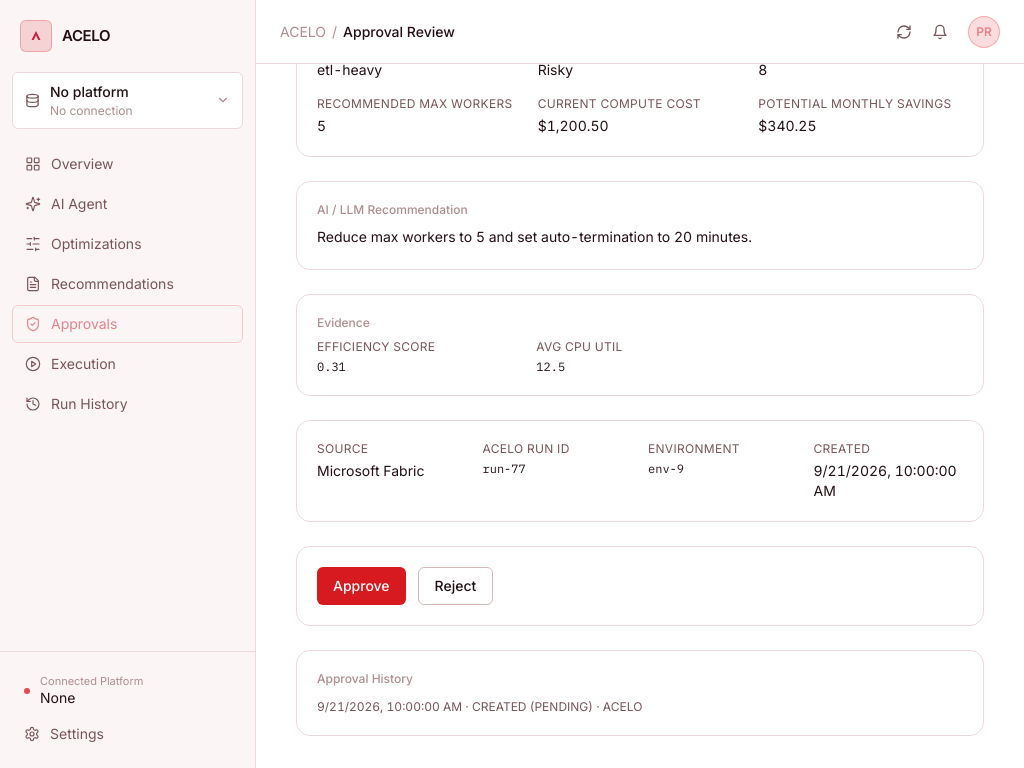
Scenario: Review, approve, reject › reject cannot be confirmed without a reason
(page scrolled)
Click the button "Reject".
click(455, 586)  # box [418, 566, 493, 604]
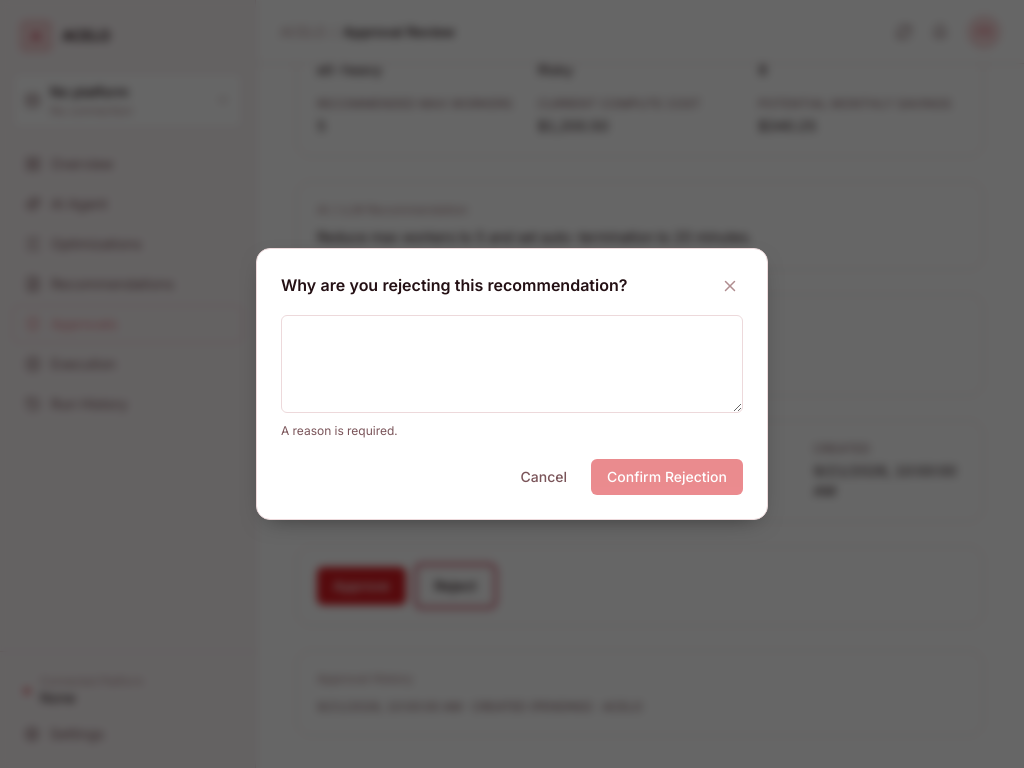
Expected: the button "Confirm Rejection" is disabled, [591, 459, 743, 495]
Type "Needed for month-end close" into the text box named "Rejection reason".
click(512, 364); type("Needed for month-end close")  # box [281, 315, 743, 413]
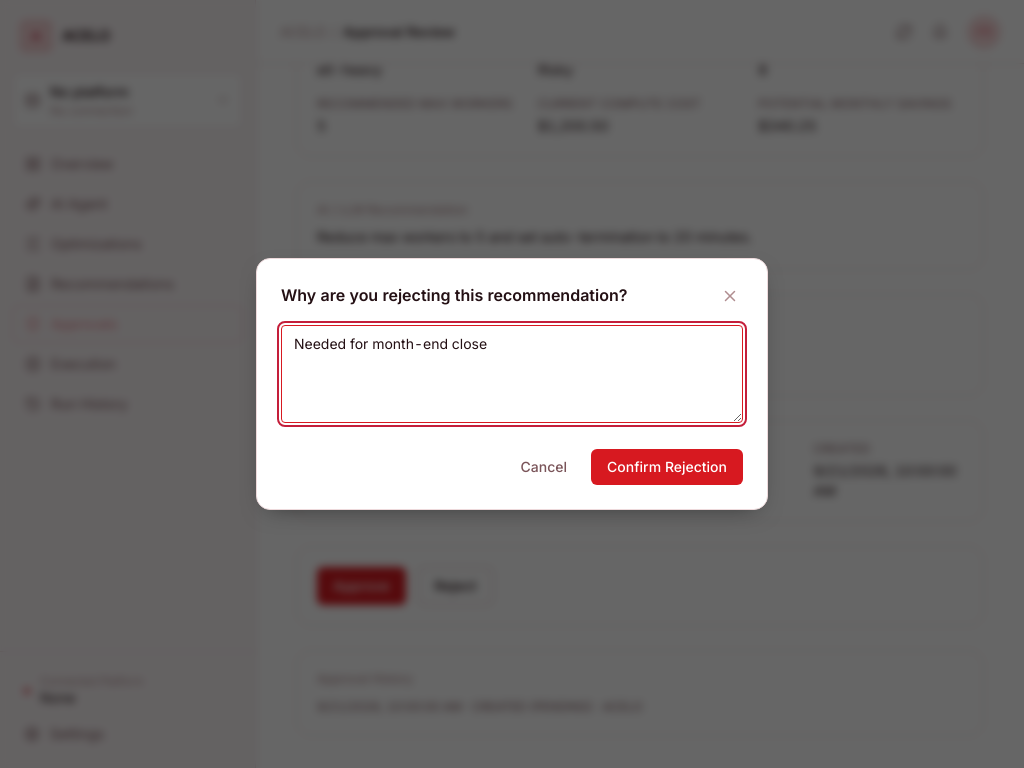
Expected: the button "Confirm Rejection" is enabled
Click the button "Confirm Rejection".
click(667, 467)  # box [591, 449, 743, 485]
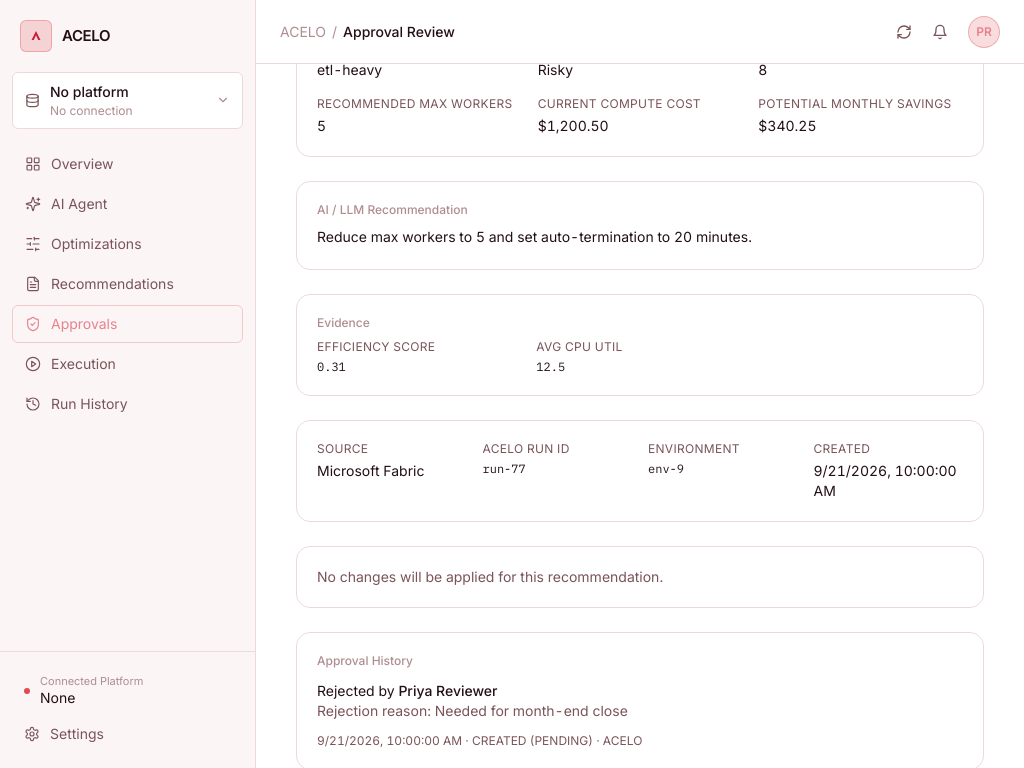
Expected: the text "Rejection reason: Needed for month-end close" is shown, [317, 702, 628, 718]
